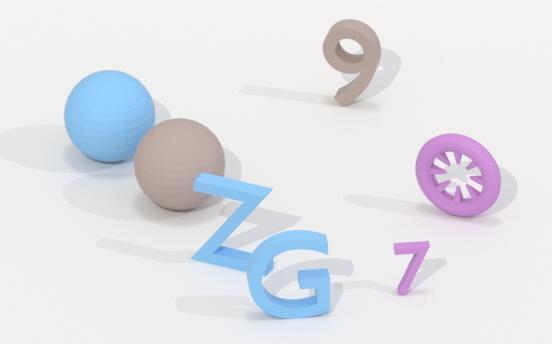chu_khoi: (192, 173, 271, 270), (246, 230, 329, 318)
dia_sao: (415, 134, 500, 216)
hinh_cau: (64, 70, 155, 162), (134, 118, 224, 210)
so_khoi: (323, 19, 380, 105), (394, 241, 429, 294)
